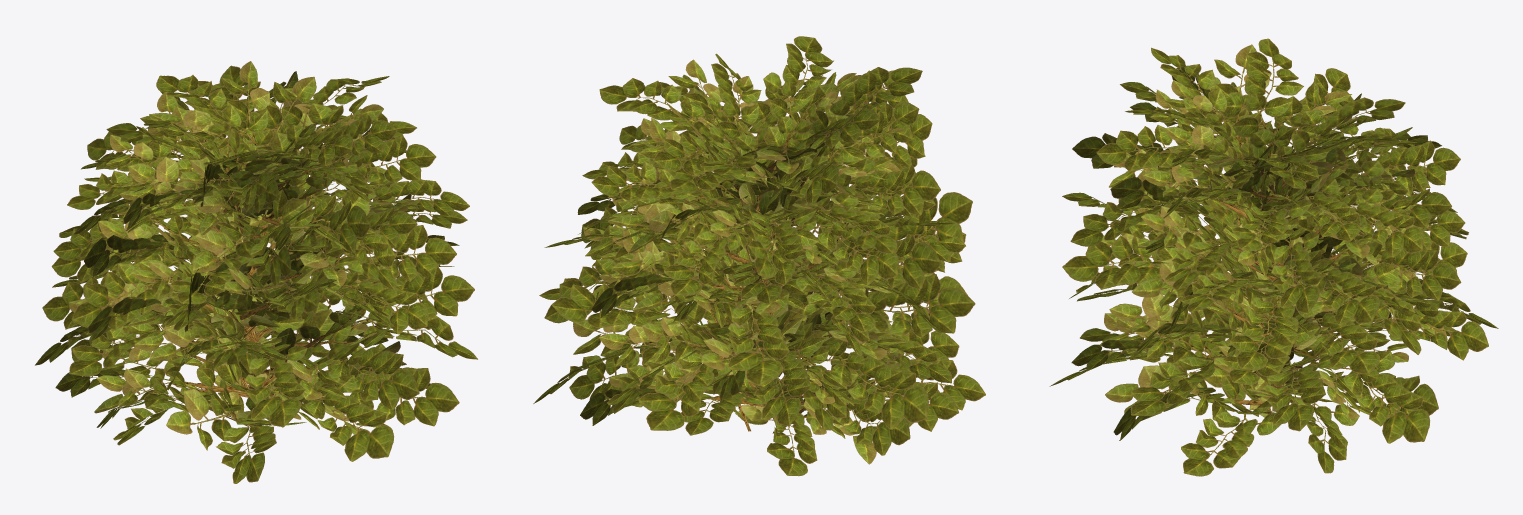
The model's file is BushShort.fbx.
The picture shows the model from 3 angles, left to right: view 1: azimuth 30°, elevation 25°; view 2: azimuth 150°, elevation 25°; view 3: azimuth 270°, elevation 25°; orthographic projection. The views are drawn at different scales.
Parts seen in each view (by area): view 1: BushShortGreenLOD0; view 2: BushShortGreenLOD0; view 3: BushShortGreenLOD0.
Boxes of the visible parts, x1=… form: BushShortGreenLOD0: x1=35, y1=61, x2=477, y2=483; BushShortGreenLOD0: x1=533, y1=36, x2=985, y2=476; BushShortGreenLOD0: x1=1049, y1=38, x2=1498, y2=476.
Size of what is drawn, in the model's own units: 149 by 133 by 150.
1 material, 1 textured.
